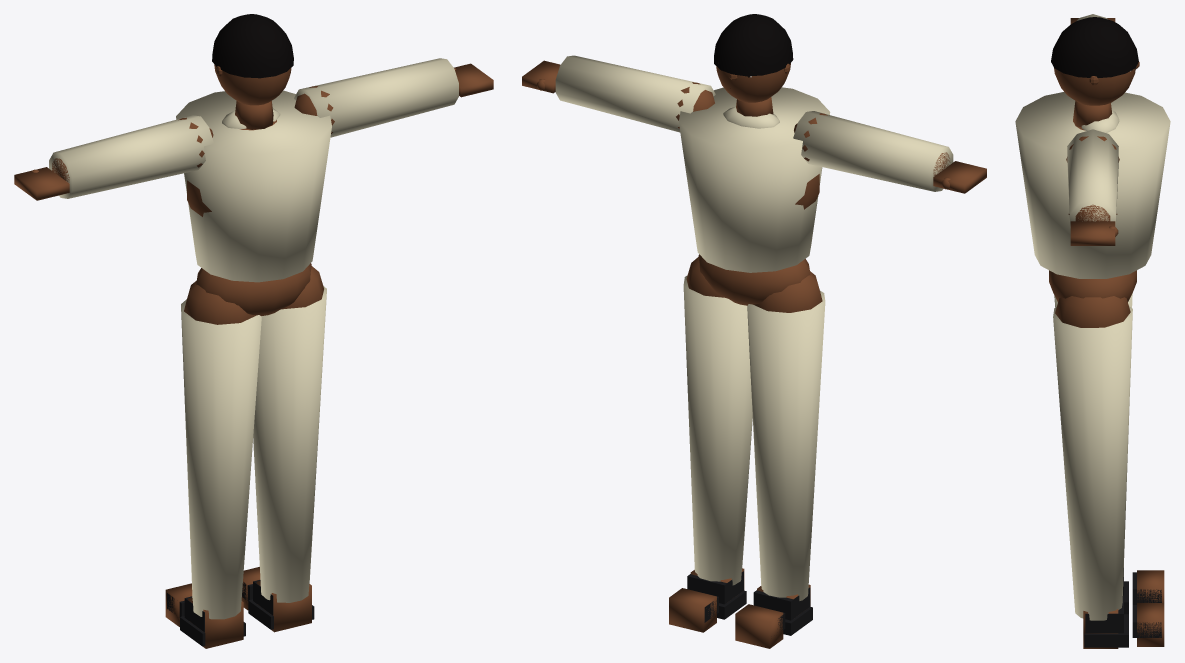
File: Ade.obj
3 renders of one model, left to right at view 1: azimuth 30°, elevation 25°; view 2: azimuth 150°, elevation 25°; view 3: azimuth 270°, elevation 25°, orthographic. The views are drawn at different scales.
Parts seen in each view (by area): view 1: Ade, Ade_body, Ade_hair, Ade_shoes; view 2: Ade, Ade_body, Ade_hair, Ade_shoes; view 3: Ade, Ade_body, Ade_hair, Ade_shoes.
Boxes of the visible parts, left/top/right/bottom form: Ade: left=49, top=58, right=458, bottom=619; Ade_body: left=14, top=63, right=493, bottom=648; Ade_hair: left=212, top=14, right=293, bottom=78; Ade_shoes: left=167, top=580, right=314, bottom=646; Ade: left=555, top=55, right=953, bottom=600; Ade_body: left=522, top=60, right=986, bottom=648; Ade_hair: left=714, top=14, right=793, bottom=76; Ade_shoes: left=687, top=571, right=812, bottom=635; Ade: left=1015, top=14, right=1170, bottom=620; Ade_body: left=1049, top=18, right=1164, bottom=648; Ade_hair: left=1051, top=17, right=1138, bottom=78; Ade_shoes: left=1084, top=568, right=1161, bottom=647.
Size of the model in its own units: 1.34 by 1.72 by 0.4.
